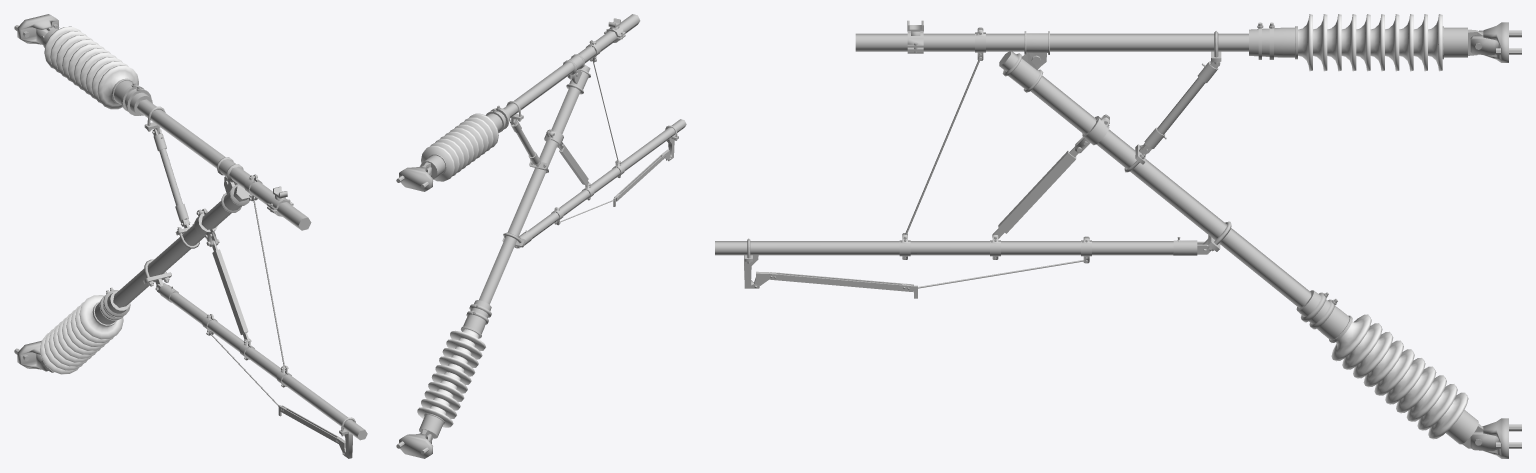
Rendered from short_single_anti.obj.
3 renders of one model, left to right at view 1: azimuth 30°, elevation 25°; view 2: azimuth 150°, elevation 25°; view 3: azimuth 270°, elevation 25°, orthographic. The views are drawn at different scales.
Parts seen in each view (by area): view 1: 贝塞尔曲线.045, 贝塞尔曲线.047, 贝塞尔曲线.046, 柱体.459, 柱体.487, 立方体.181, 立方体.157, 柱体.486, 柱体.452, 立方体.162, 立方体.156, 贝塞尔曲线.044 (+10 smaller); view 2: 贝塞尔曲线.046, 贝塞尔曲线.045, 贝塞尔曲线.047, 立方体.157, 立方体.156, 柱体.470, 柱体.452, 柱体.460, 立方体.162, 立方体.181, 柱体.461, 柱体.459 (+9 smaller); view 3: 贝塞尔曲线.046, 贝塞尔曲线.047, 贝塞尔曲线.045, 立方体.181, 柱体.486, 柱体.452, 立方体.162, 柱体.459, 柱体.485.
Boxes of the visible parts, <box> form: 贝塞尔曲线.045: <box>169,292,367,440</box>; 贝塞尔曲线.047: <box>137,99,311,230</box>; 贝塞尔曲线.046: <box>113,185,249,307</box>; 柱体.459: <box>79,295,123,339</box>; 柱体.487: <box>97,65,138,109</box>; 立方体.181: <box>212,249,248,334</box>; 立方体.157: <box>17,14,58,44</box>; 柱体.486: <box>111,78,152,115</box>; 柱体.452: <box>92,290,129,326</box>; 立方体.162: <box>279,405,341,443</box>; 立方体.156: <box>17,340,41,369</box>; 贝塞尔曲线.044: <box>159,148,182,205</box>; 贝塞尔曲线.046: <box>479,65,590,304</box>; 贝塞尔曲线.045: <box>527,119,686,238</box>; 贝塞尔曲线.047: <box>503,14,640,117</box>; 立方体.157: <box>399,166,432,191</box>; 立方体.156: <box>399,433,432,458</box>; 柱体.470: <box>421,145,455,181</box>; 柱体.452: <box>461,300,491,338</box>; 柱体.460: <box>419,413,444,438</box>; 立方体.162: <box>614,153,665,201</box>; 立方体.181: <box>559,146,588,184</box>; 柱体.461: <box>424,389,460,410</box>; 柱体.459: <box>450,329,485,351</box>; 贝塞尔曲线.046: <box>999,51,1311,308</box>; 贝塞尔曲线.047: <box>855,33,1248,51</box>; 贝塞尔曲线.045: <box>715,241,1173,255</box>; 立方体.181: <box>998,150,1076,233</box>; 柱体.486: <box>1249,26,1297,59</box>; 柱体.452: <box>1296,290,1352,342</box>; 立方体.162: <box>769,272,913,292</box>; 柱体.459: <box>1331,314,1371,361</box>; 柱体.485: <box>1442,26,1467,59</box>.
Bounding box in the file's own units: 0.24 × 2 × 3.36.
